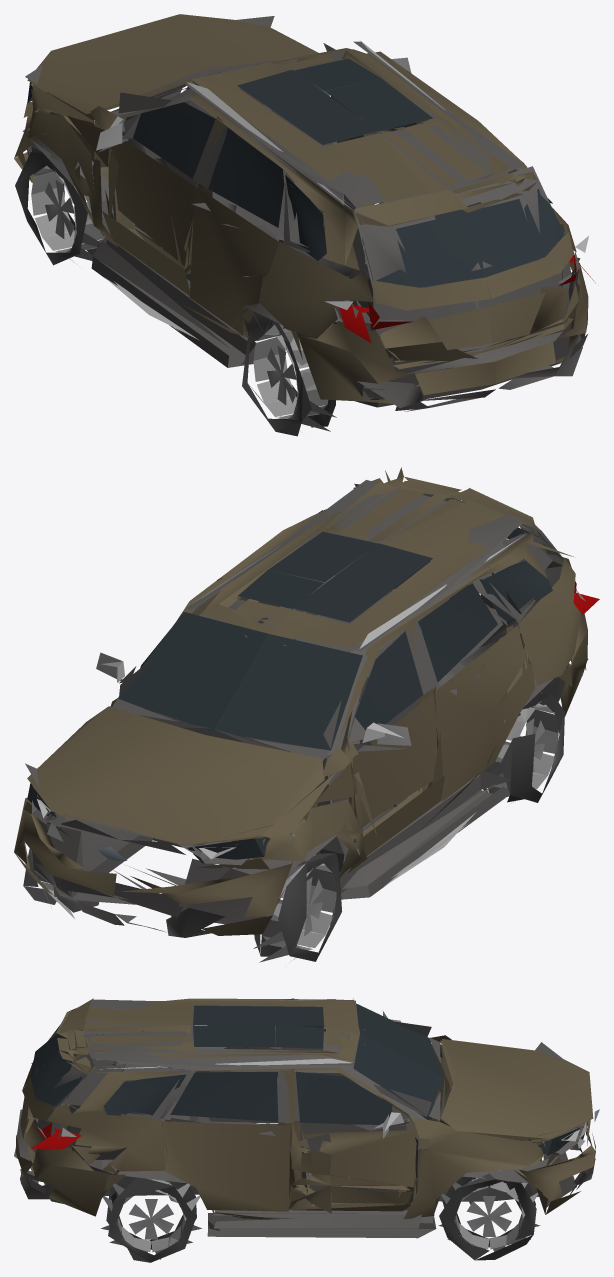
Rendered from everest_lo.glb.
3 views of the same model, one above another, from view 1: azimuth 30°, elevation 25°; view 2: azimuth 150°, elevation 25°; view 3: azimuth 270°, elevation 25° (orthographic). The views are drawn at different scales.
Visible parts, largest first — view 1: car_everest; view 2: car_everest; view 3: car_everest.
Boxes of the visible parts, x1=… form: car_everest: x1=14, y1=14, x2=595, y2=436; car_everest: x1=14, y1=467, x2=599, y2=962; car_everest: x1=14, y1=998, x2=599, y2=1262.
Bounding box in the file's own units: 2.32 × 1.83 × 4.91.
